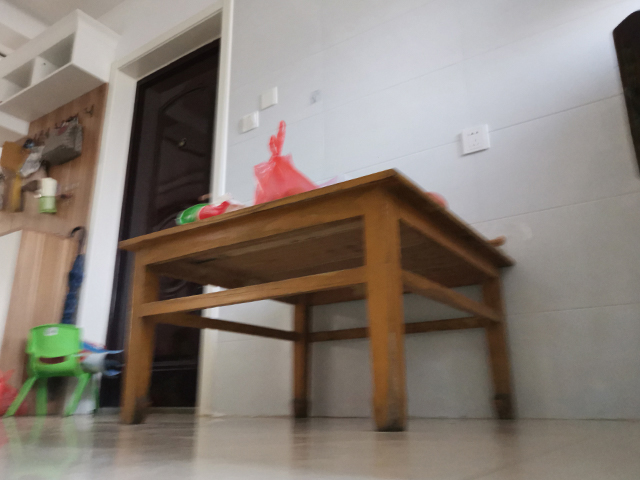stool: (1, 322, 105, 420)
table: (114, 166, 519, 433)
